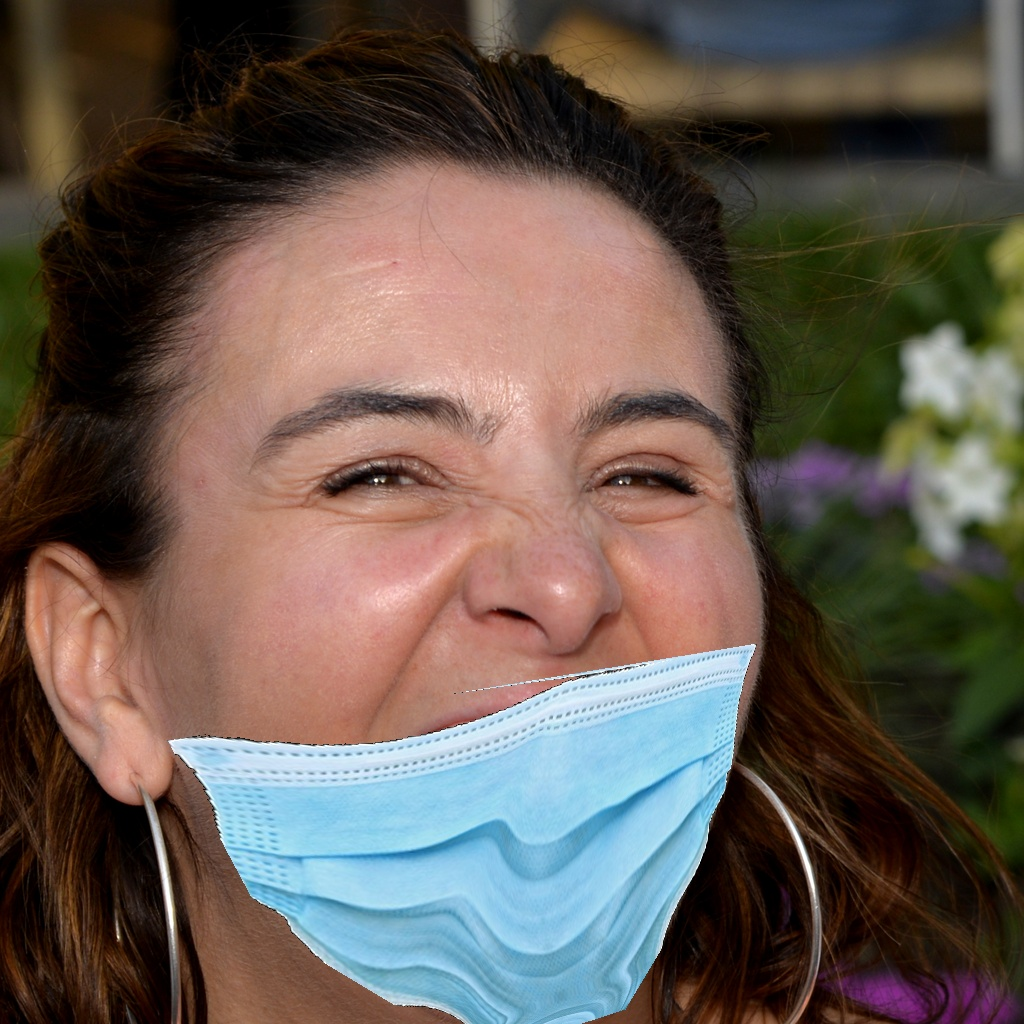mascarilla_mal_puesta: (114, 345, 784, 973)
